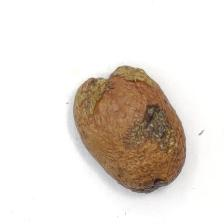NG: (122, 101, 178, 153), (73, 78, 107, 117), (109, 62, 158, 88), (129, 175, 171, 195)
